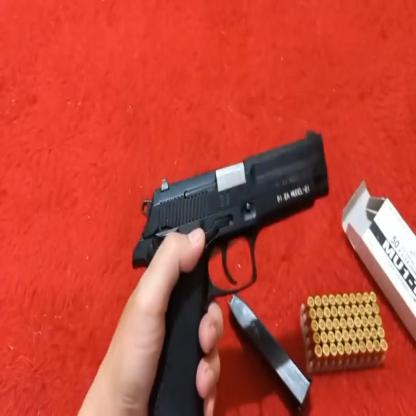handgun: (146, 128, 339, 252)
